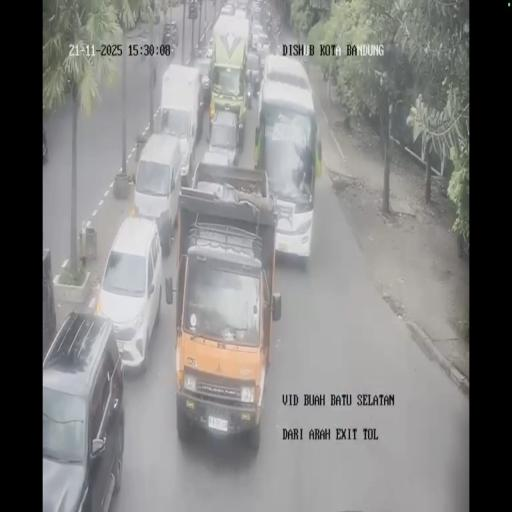3: (171, 166, 283, 446), (255, 56, 321, 262), (128, 35, 150, 61)
car: (41, 310, 124, 510), (95, 216, 163, 371), (133, 134, 184, 252), (202, 110, 243, 171), (192, 55, 214, 108), (244, 50, 262, 100), (162, 22, 178, 54), (252, 31, 270, 56), (249, 0, 263, 21), (221, 0, 236, 16), (205, 40, 214, 60), (234, 4, 246, 17)
truck: (268, 28, 280, 55)
